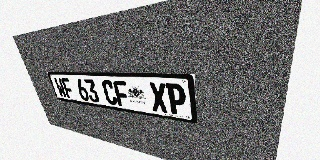3: (84, 79, 100, 103)
6: (75, 79, 90, 101)
C: (101, 80, 118, 106)
F: (112, 80, 130, 107), (61, 78, 75, 99)
P: (166, 83, 187, 116)
W: (53, 78, 67, 98)
X: (148, 82, 169, 113)
